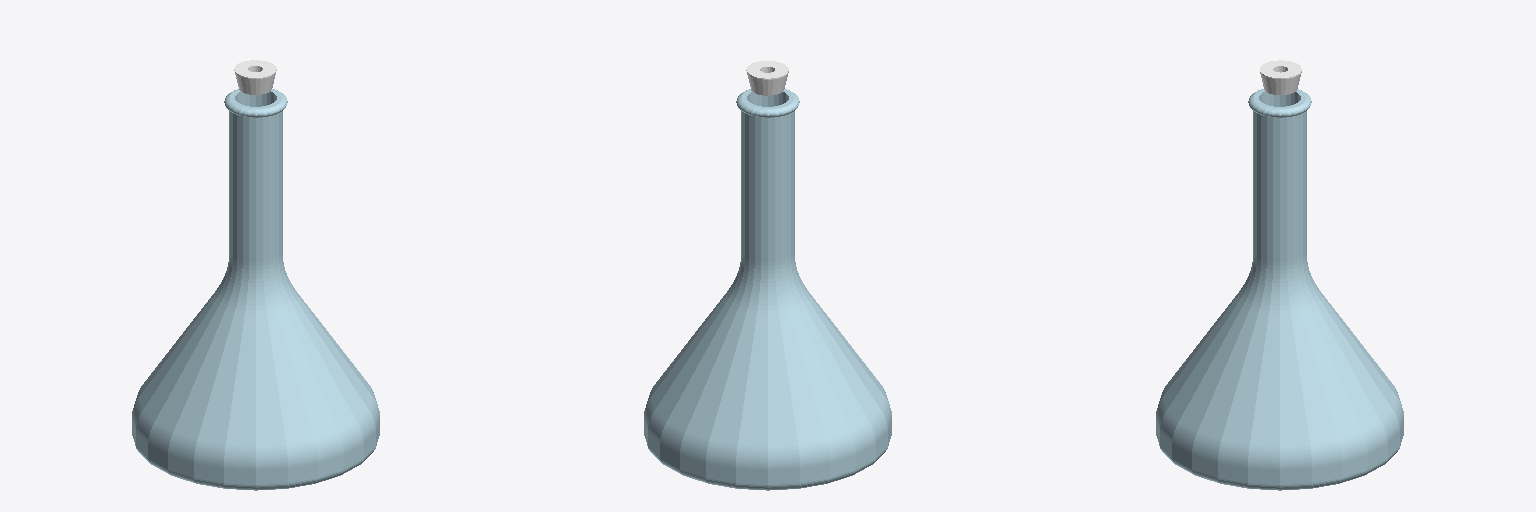
Rendered from Maatkolf.obj.
The picture shows the model from 3 angles: view 1: azimuth 30°, elevation 25°; view 2: azimuth 150°, elevation 25°; view 3: azimuth 270°, elevation 25°; orthographic projection.
Parts seen in each view (by area): view 1: Mesh1 small_Erlenmeyer_flask1 Erlenmeyer_flask_and_stopper1 Mode, Mesh3 rubber_stopper1 Erlenmeyer_flask_and_stopper1 Model; view 2: Mesh1 small_Erlenmeyer_flask1 Erlenmeyer_flask_and_stopper1 Mode, Mesh3 rubber_stopper1 Erlenmeyer_flask_and_stopper1 Model; view 3: Mesh1 small_Erlenmeyer_flask1 Erlenmeyer_flask_and_stopper1 Mode, Mesh3 rubber_stopper1 Erlenmeyer_flask_and_stopper1 Model.
Part boxes in pixels (x1,y1,x2,y2): Mesh1 small_Erlenmeyer_flask1 Erlenmeyer_flask_and_stopper1 Mode: (132,89,379,490); Mesh3 rubber_stopper1 Erlenmeyer_flask_and_stopper1 Model: (234,60,276,94); Mesh1 small_Erlenmeyer_flask1 Erlenmeyer_flask_and_stopper1 Mode: (644,89,891,490); Mesh3 rubber_stopper1 Erlenmeyer_flask_and_stopper1 Model: (746,61,788,95); Mesh1 small_Erlenmeyer_flask1 Erlenmeyer_flask_and_stopper1 Mode: (1156,89,1403,490); Mesh3 rubber_stopper1 Erlenmeyer_flask_and_stopper1 Model: (1260,60,1301,94).
Size of the model in its own units: 11.14 by 18.47 by 11.14.